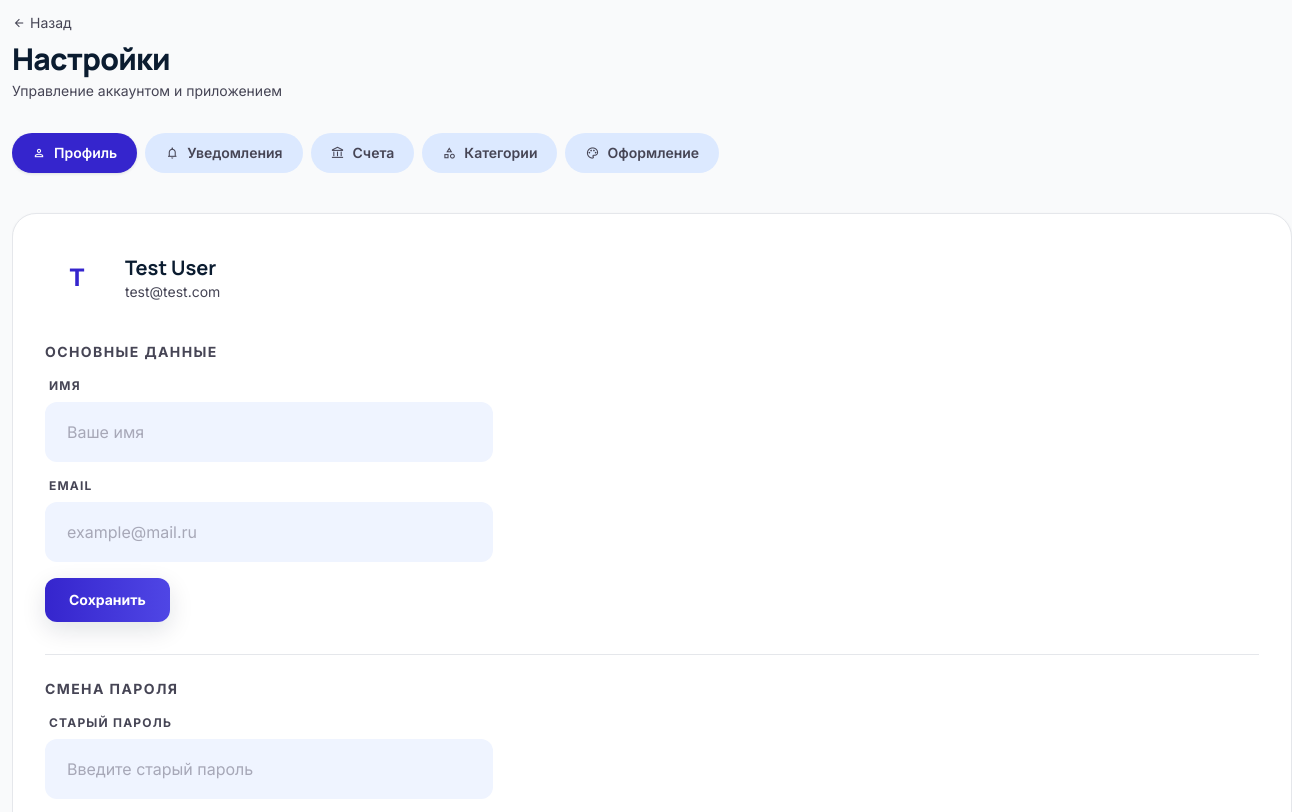
it: Settings › switches to theme tab and shows theme options
Expected: the heading "Настройки" is shown, [12,38,170,79]
Step 1. Click the button "Оформление" → (642, 153), box [566,133,719,173]
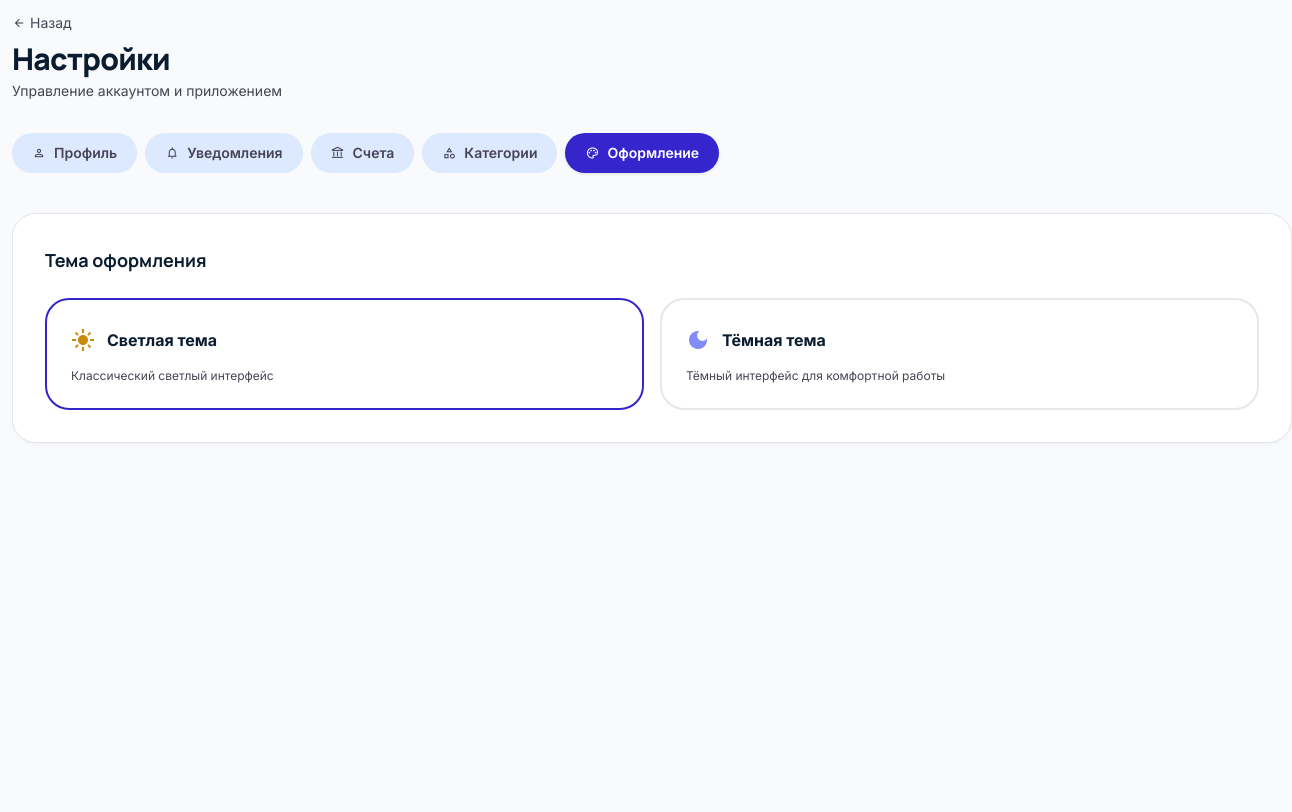
Expected: the heading "Тема оформления" is shown, [45,248,206,272]
Expected: the text "Светлая тема" is shown, [107,328,217,352]
Expected: the text "Тёмная тема" is shown, [722,328,826,352]
